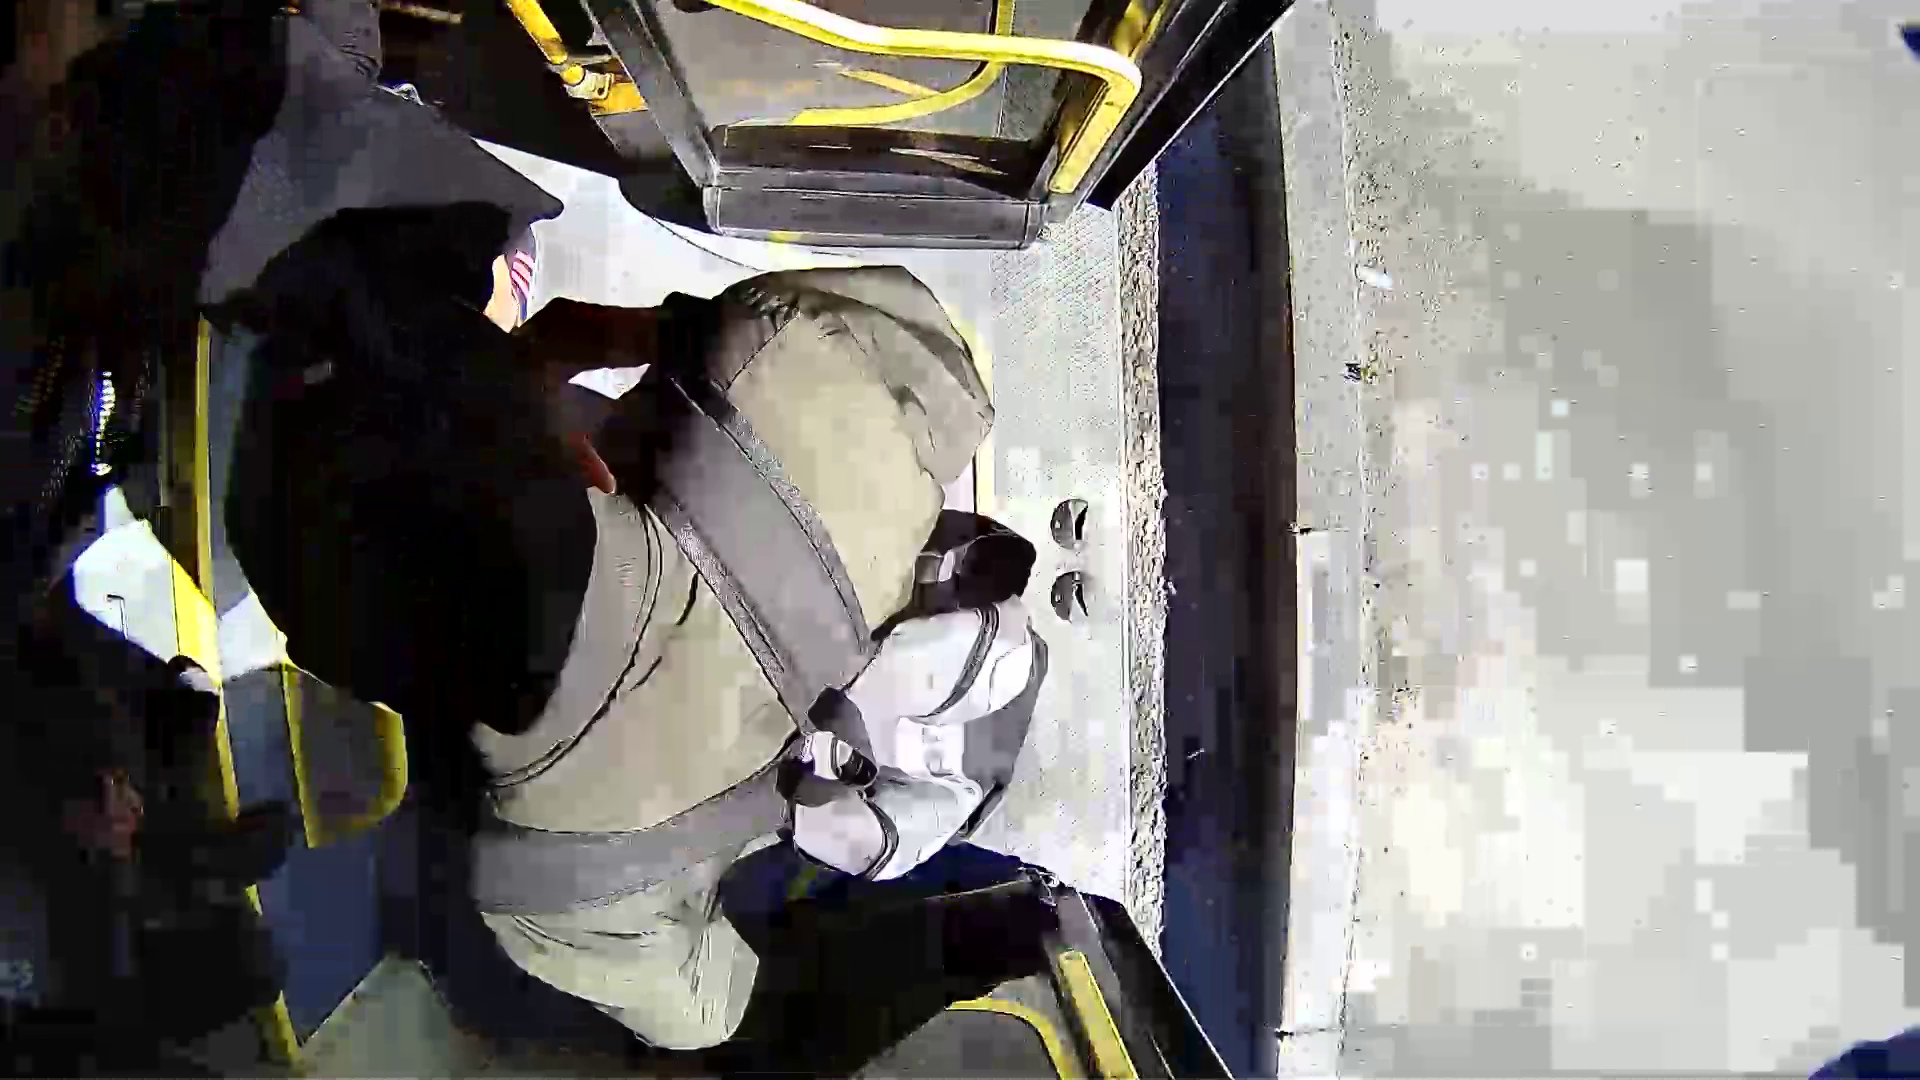person: (160, 247, 1124, 963)
